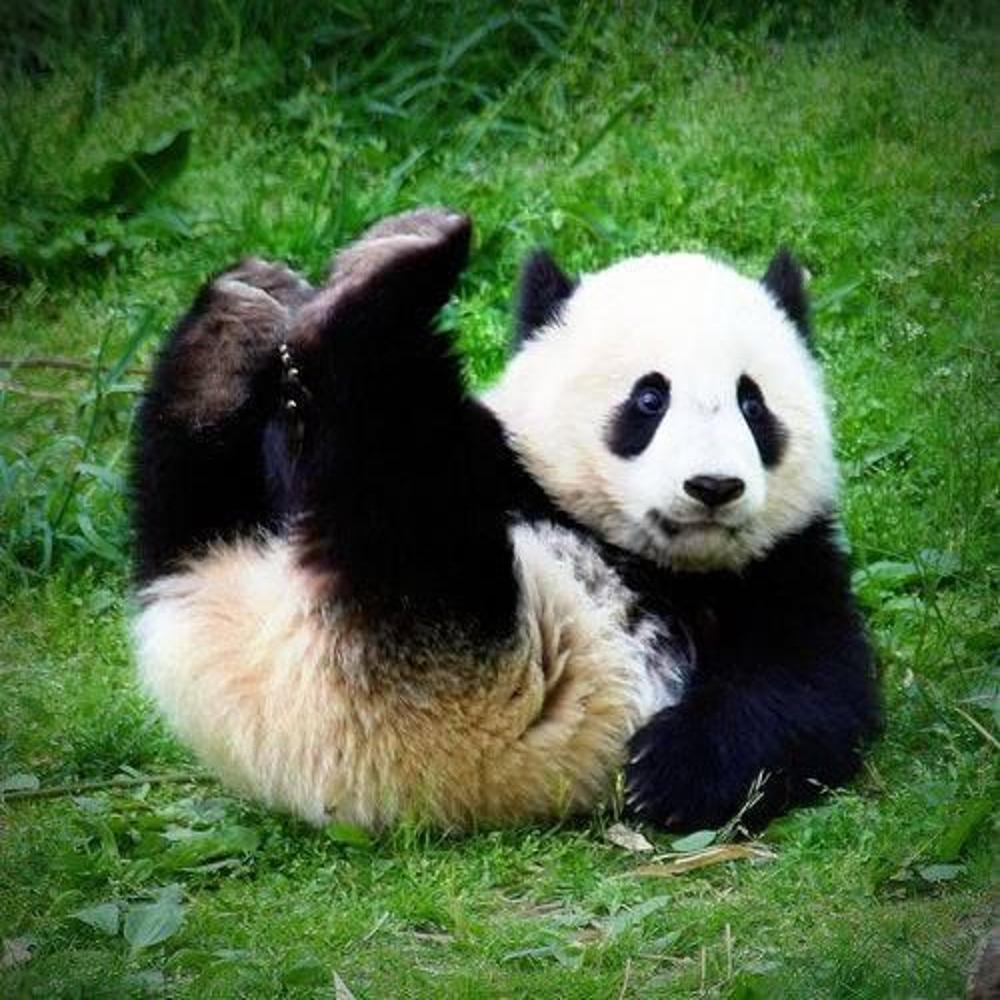panda: (124, 210, 890, 854)
